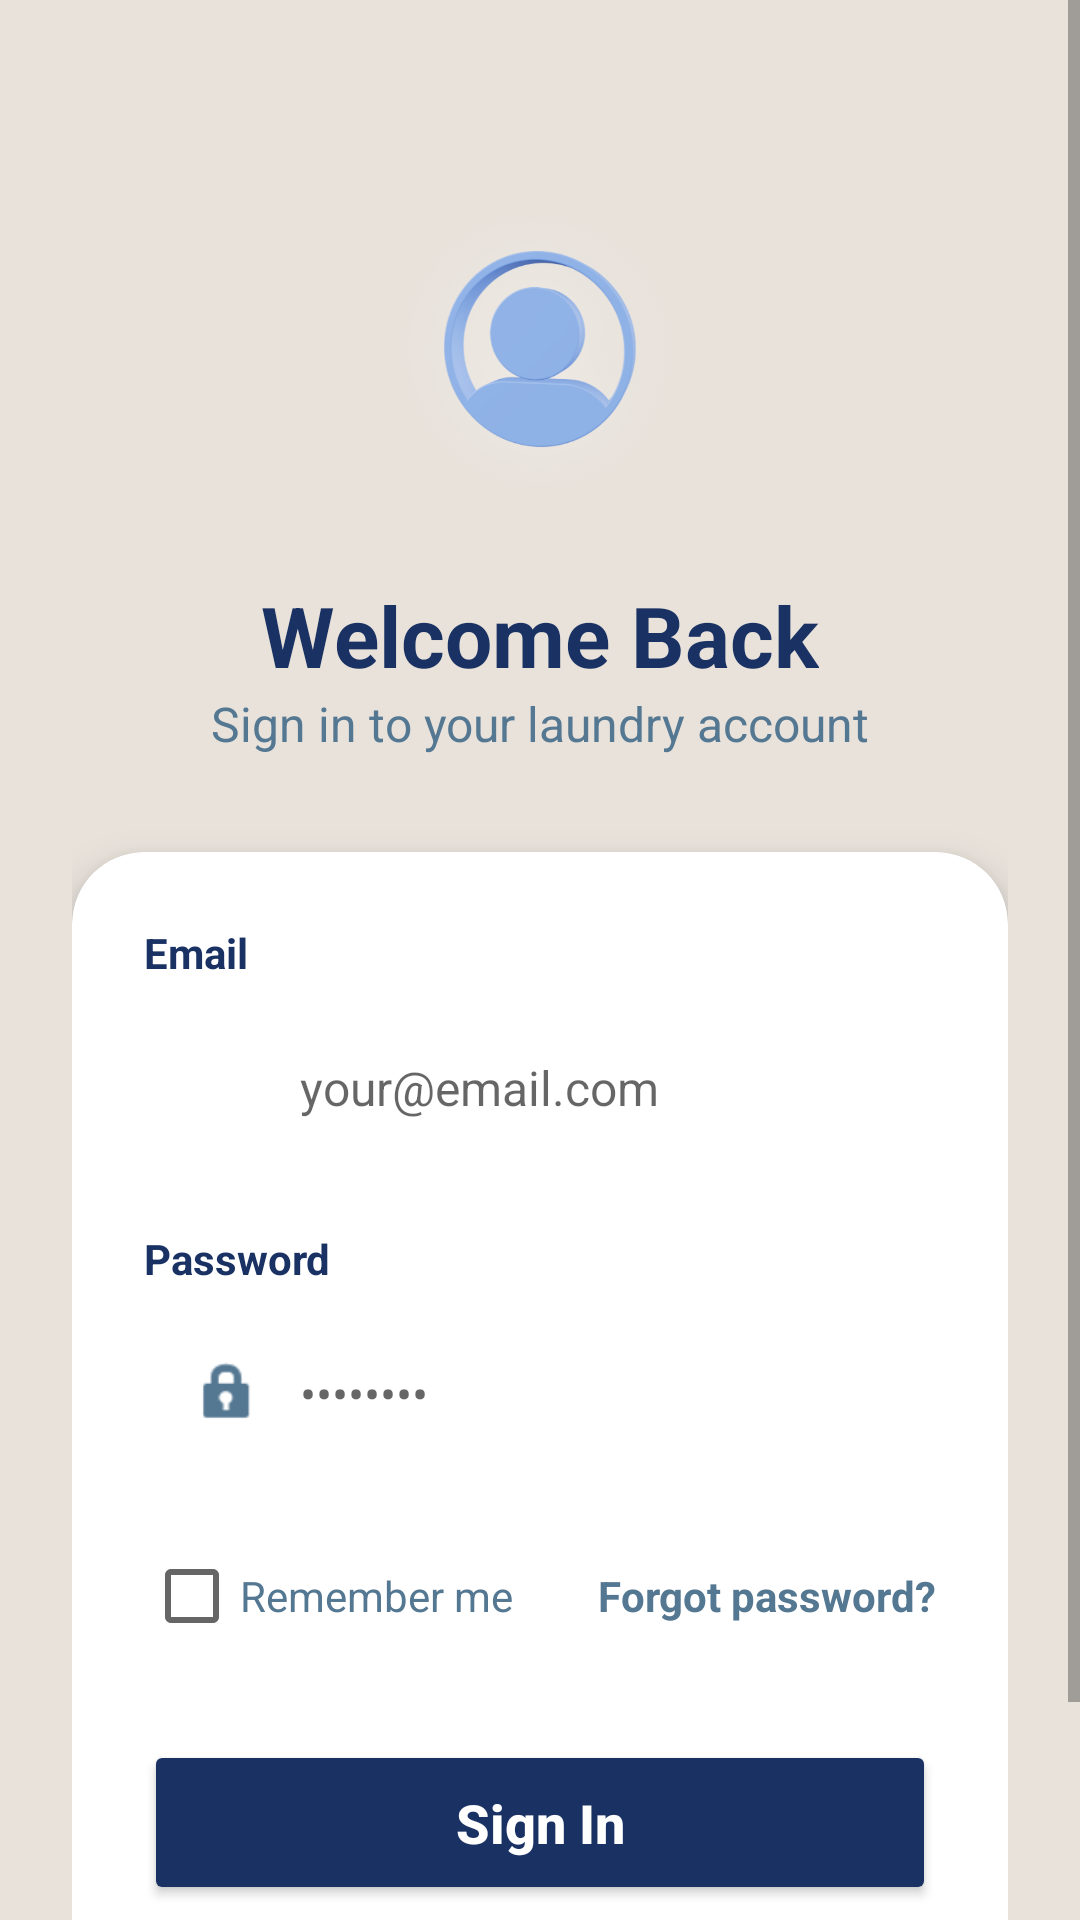

Where icons sit on this 1080 × 1920 app screen, as (x1, y1, x2, y2):
profile: (444, 251, 636, 447)
